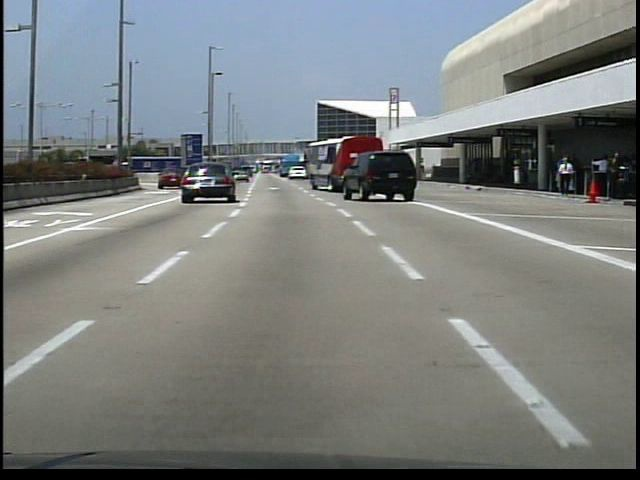person: (555, 157, 577, 200)
